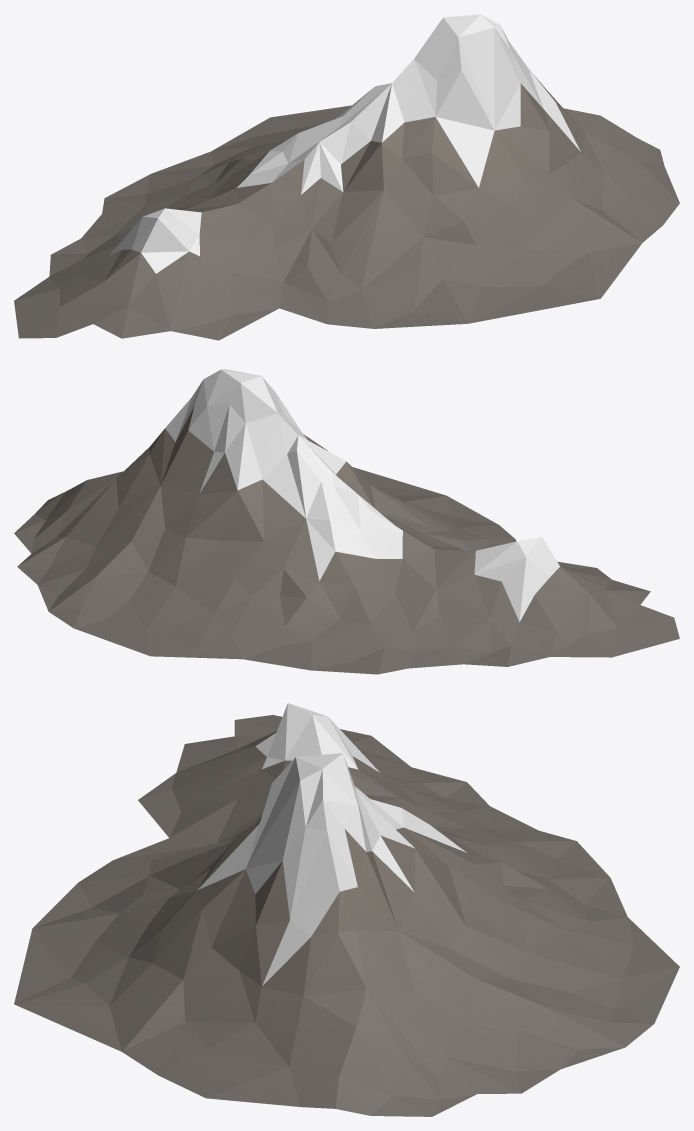
File: AKR_DistantMountain.fbx
3 views of the same model, one above another, from view 1: azimuth 30°, elevation 25°; view 2: azimuth 150°, elevation 25°; view 3: azimuth 270°, elevation 25° (orthographic). The views are drawn at different scales.
Parts seen in each view (by area): view 1: DistantMountain; view 2: DistantMountain; view 3: DistantMountain.
Part boxes in pixels (<box>): DistantMountain: <box>14,14,679,340</box>; DistantMountain: <box>14,369,679,674</box>; DistantMountain: <box>14,703,679,1116</box>.
Size of the model in its own units: 590 by 162 by 411.
Materials: 1 (1 with a texture image).
